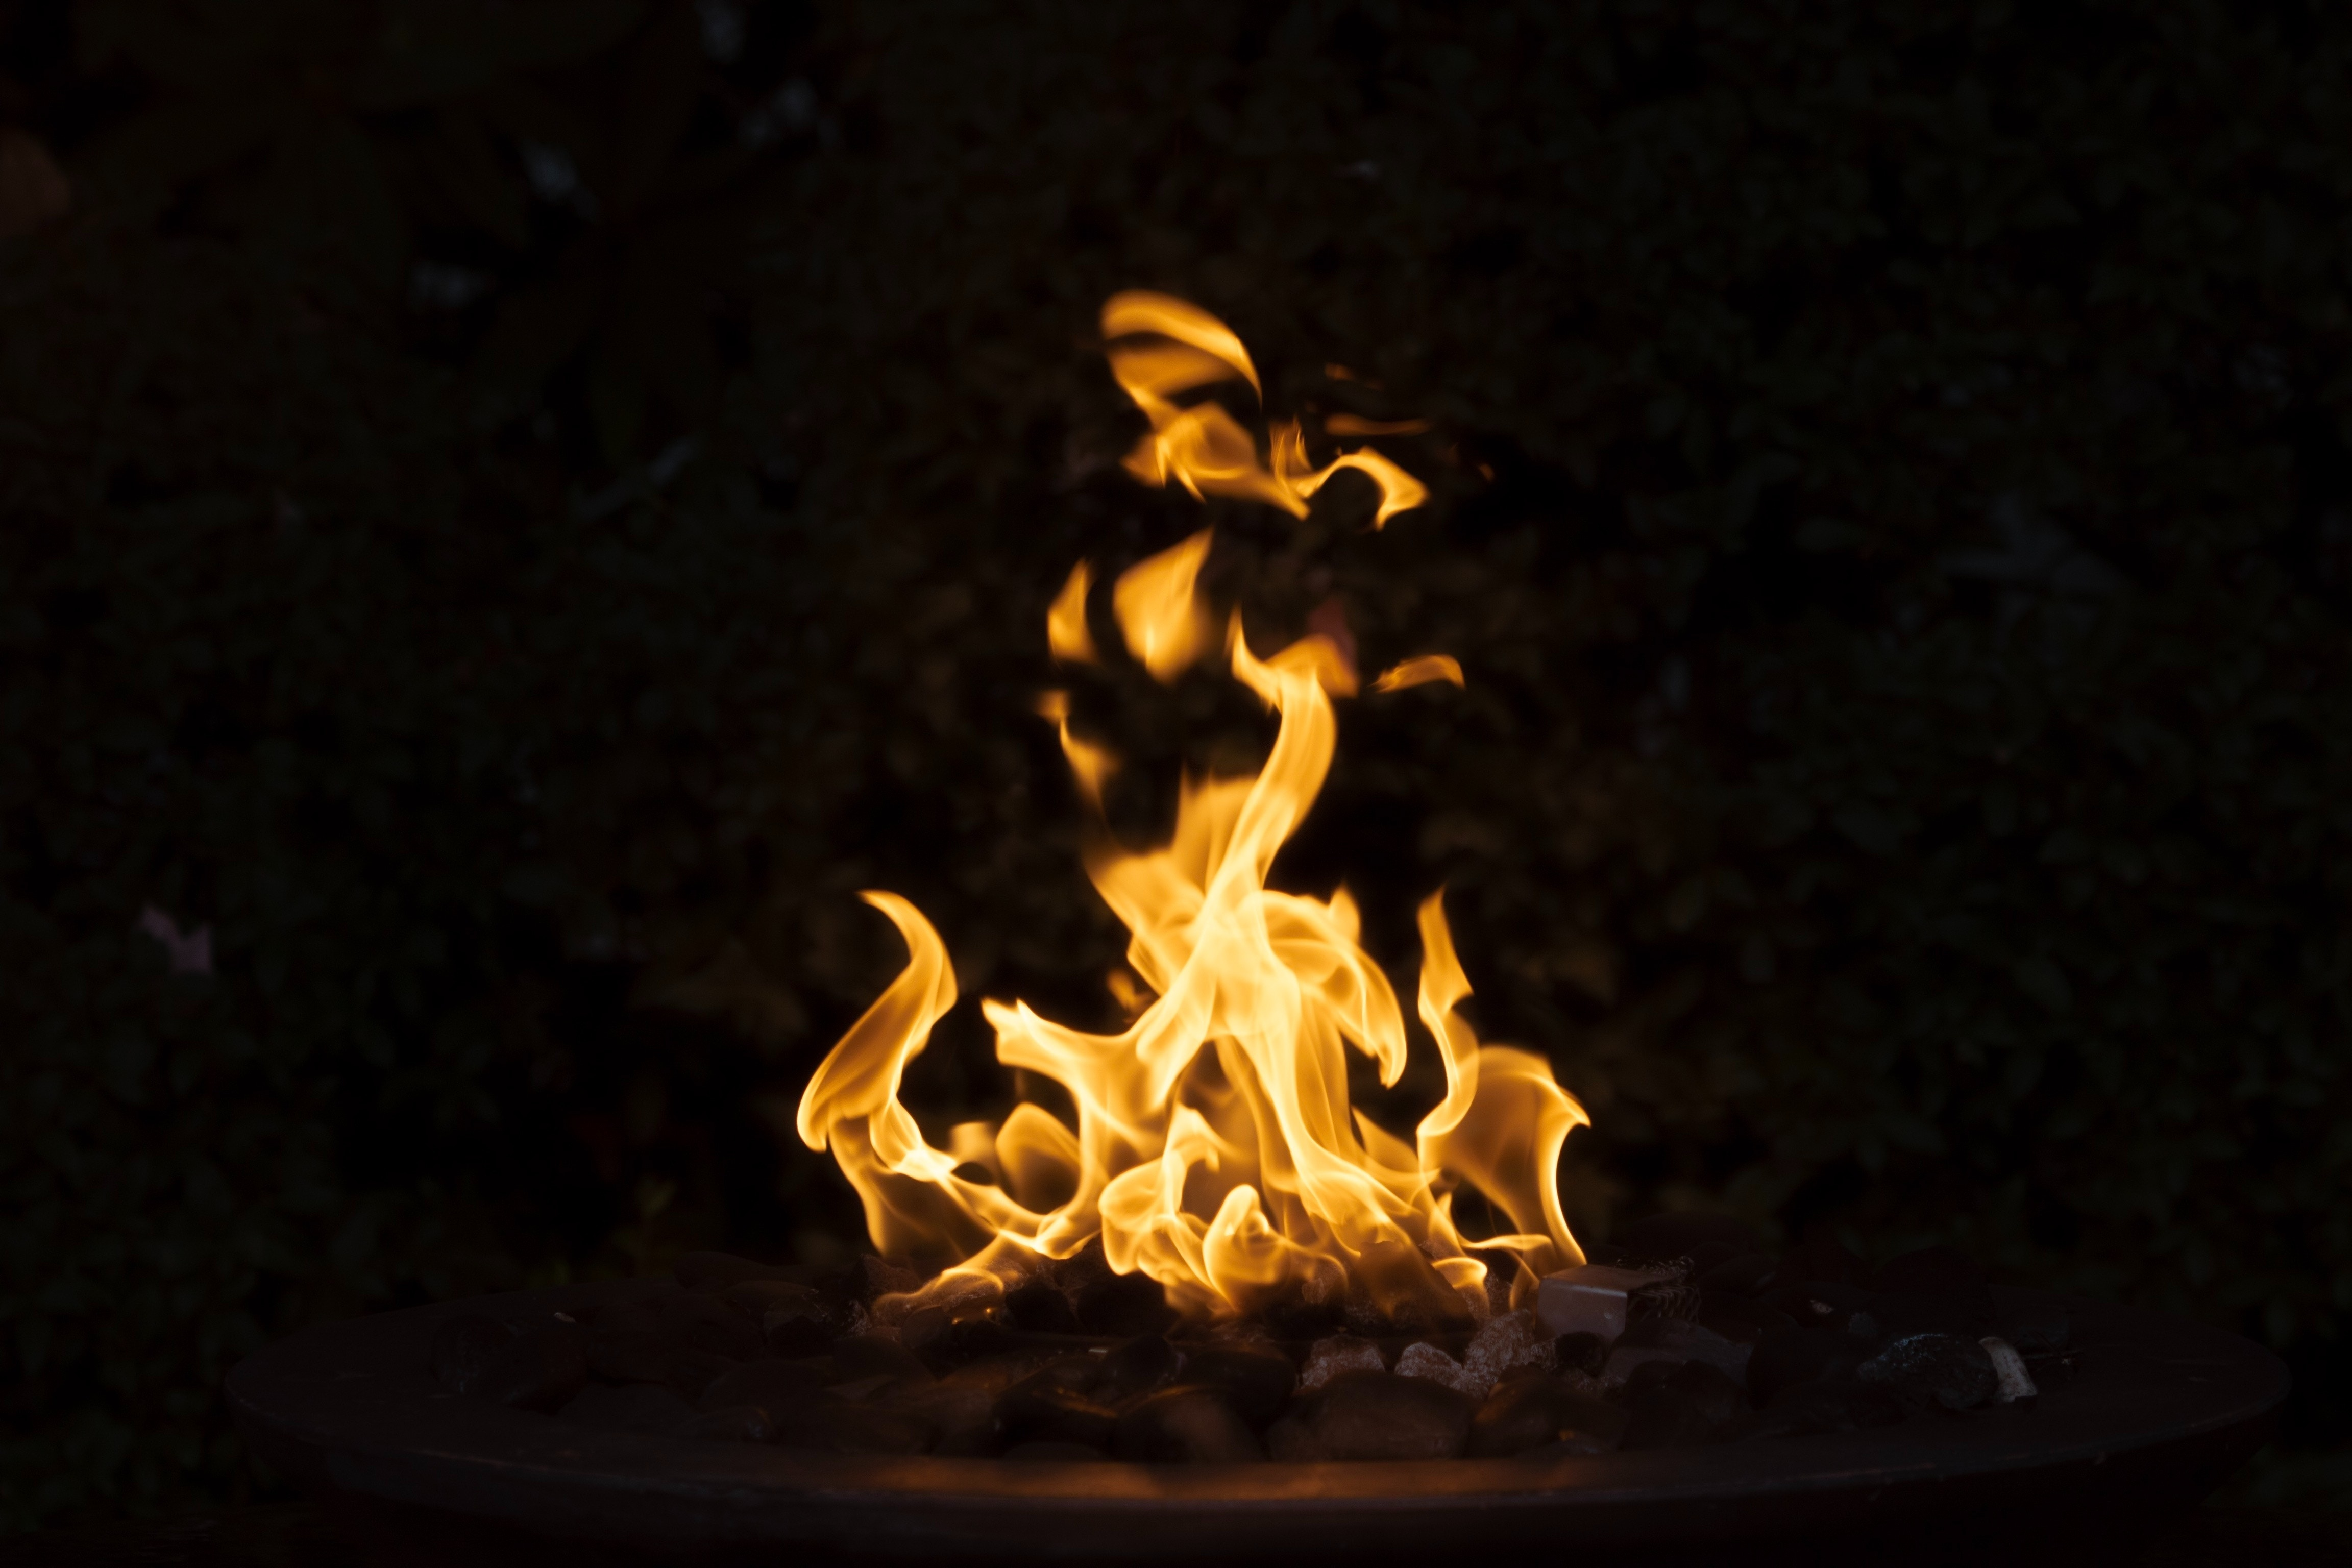fire: (777, 275, 1610, 1337)
